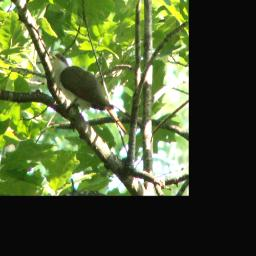Cuckoo: (47, 51, 130, 136)
